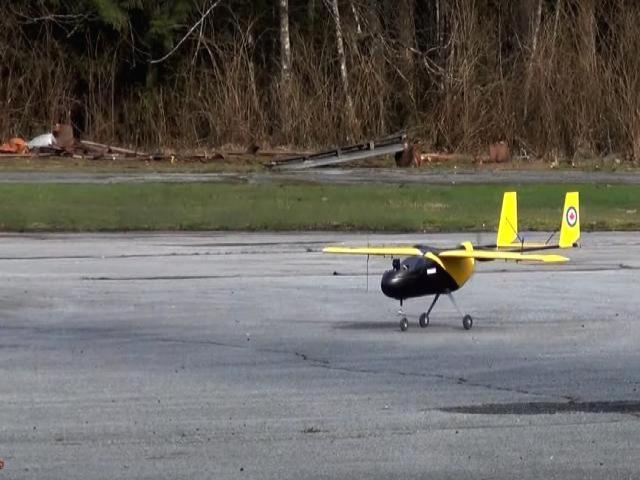iha: (316, 180, 587, 330)
